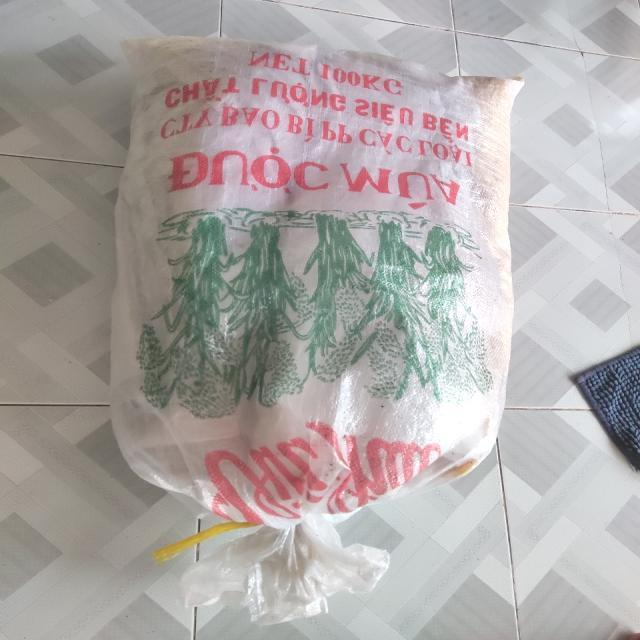gunny_bag: (111, 36, 523, 625)
